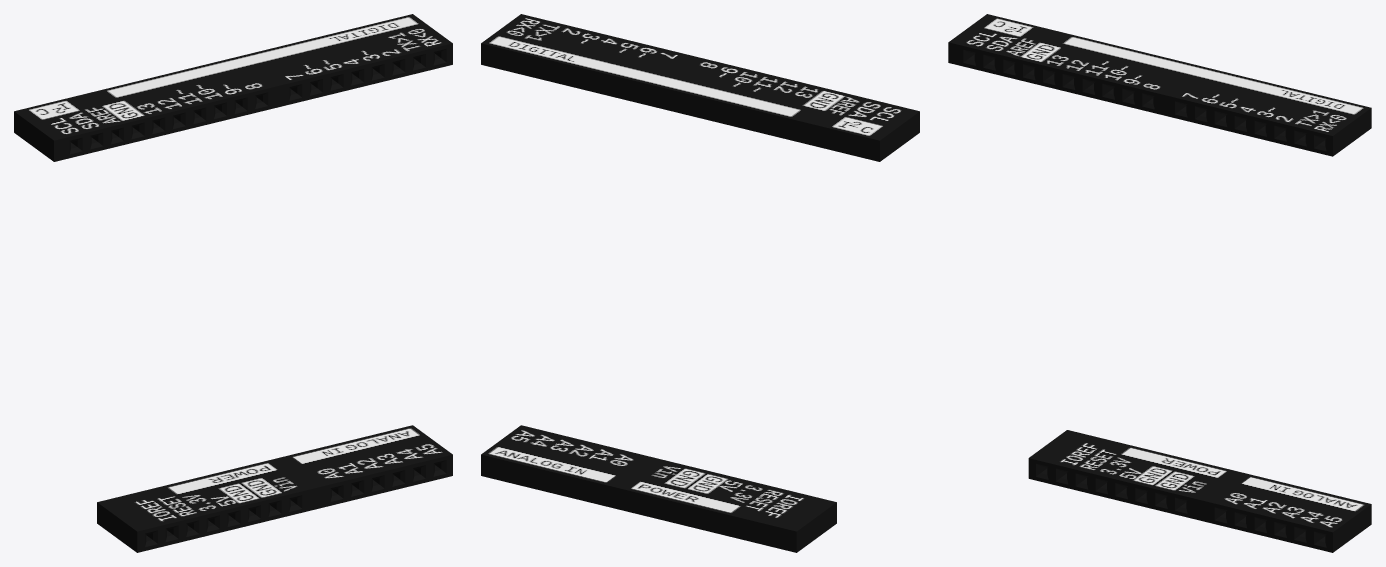
The model's file is Headers.obj.
The picture shows the model from 3 angles, left to right: view 1: azimuth 30°, elevation 25°; view 2: azimuth 150°, elevation 25°; view 3: azimuth 330°, elevation 25°; orthographic projection. The views are drawn at different scales.
Parts seen in each view (by area): view 1: headers.001, holes01b.001, holes01a.001, holes02b.001, holes02a.001; view 2: headers.001; view 3: headers.001, holes01b.001, holes01a.001, holes02b.001, holes02a.001.
Boxes of the visible parts, bbox=[...] form: headers.001: bbox=[14, 14, 452, 552]; holes01b.001: bbox=[66, 87, 271, 158]; holes01a.001: bbox=[285, 44, 450, 105]; holes02b.001: bbox=[141, 490, 305, 551]; holes02a.001: bbox=[326, 455, 450, 506]; headers.001: bbox=[481, 14, 919, 552]; headers.001: bbox=[948, 14, 1371, 552]; holes01b.001: bbox=[959, 45, 1158, 113]; holes01a.001: bbox=[1171, 96, 1330, 155]; holes02b.001: bbox=[1032, 459, 1191, 518]; holes02a.001: bbox=[1211, 502, 1330, 552].
Bounding box in the file's own units: 0.0488 × 0.0505 × 0.0085.
